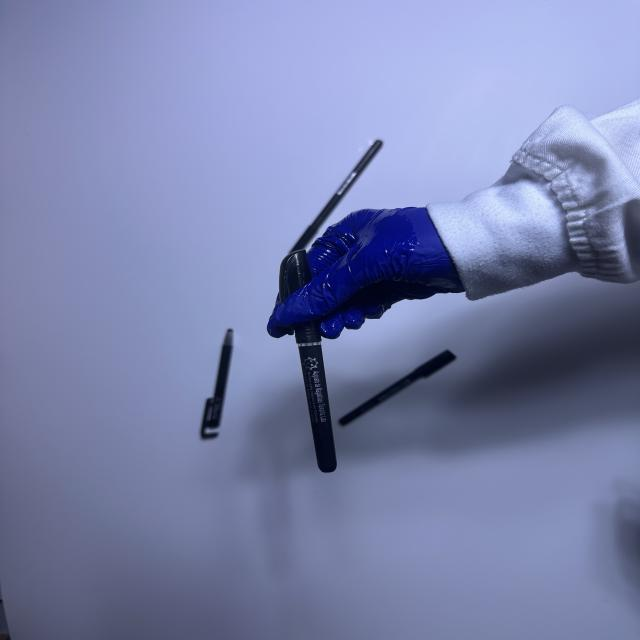gloves_contaminated: (268, 207, 464, 339)
